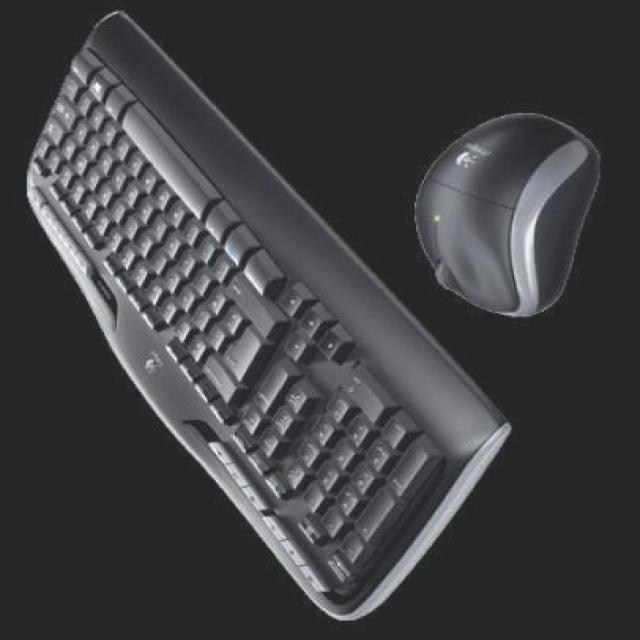keyboard: (10, 8, 518, 621)
